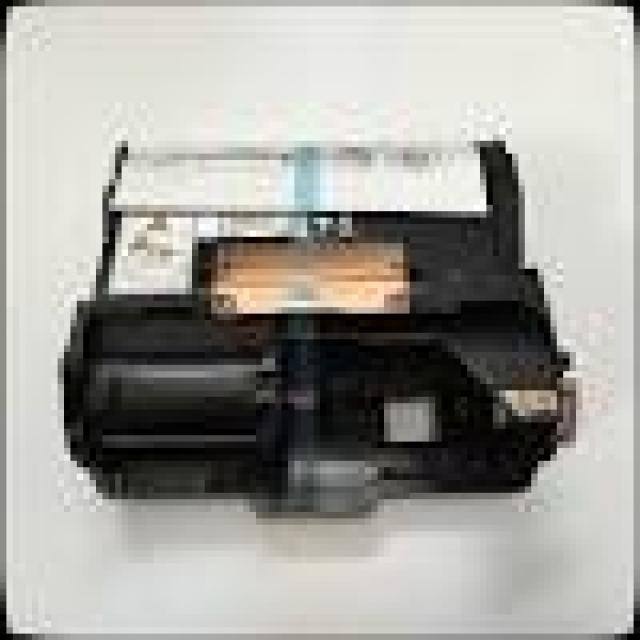printer: (41, 114, 588, 556)
